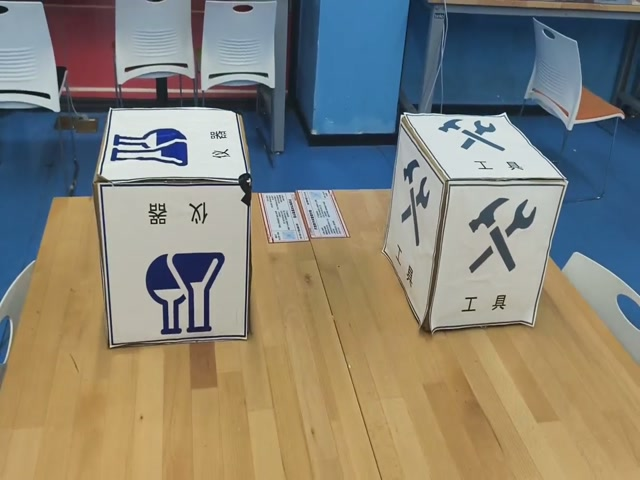Cube_ins: (94, 108, 250, 188)
Cube_tool: (400, 114, 566, 190)
